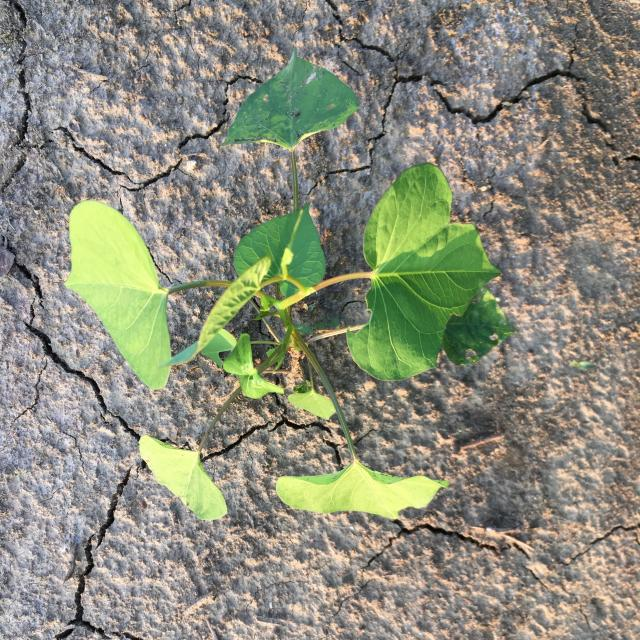MorningGlory: (62, 48, 520, 520)
